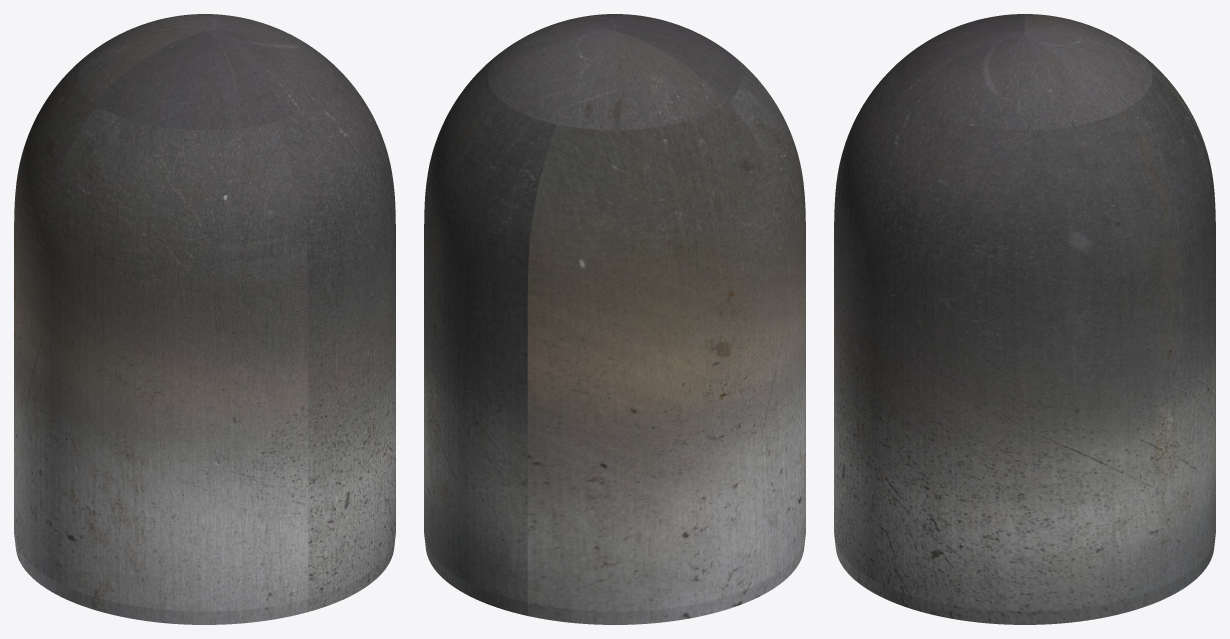
The model's file is cylinder_environment (3).fbx.
3 renders of one model, left to right at view 1: azimuth 30°, elevation 25°; view 2: azimuth 150°, elevation 25°; view 3: azimuth 270°, elevation 25°, orthographic.
Parts seen in each view (by area): view 1: Sphere; view 2: Sphere; view 3: Sphere.
Boxes of the visible parts, x1,y1,x2,y2 form: Sphere: (14,14,395,624); Sphere: (424,14,805,624); Sphere: (834,14,1215,624).
Size of the model in its own units: 205 by 304 by 205.
